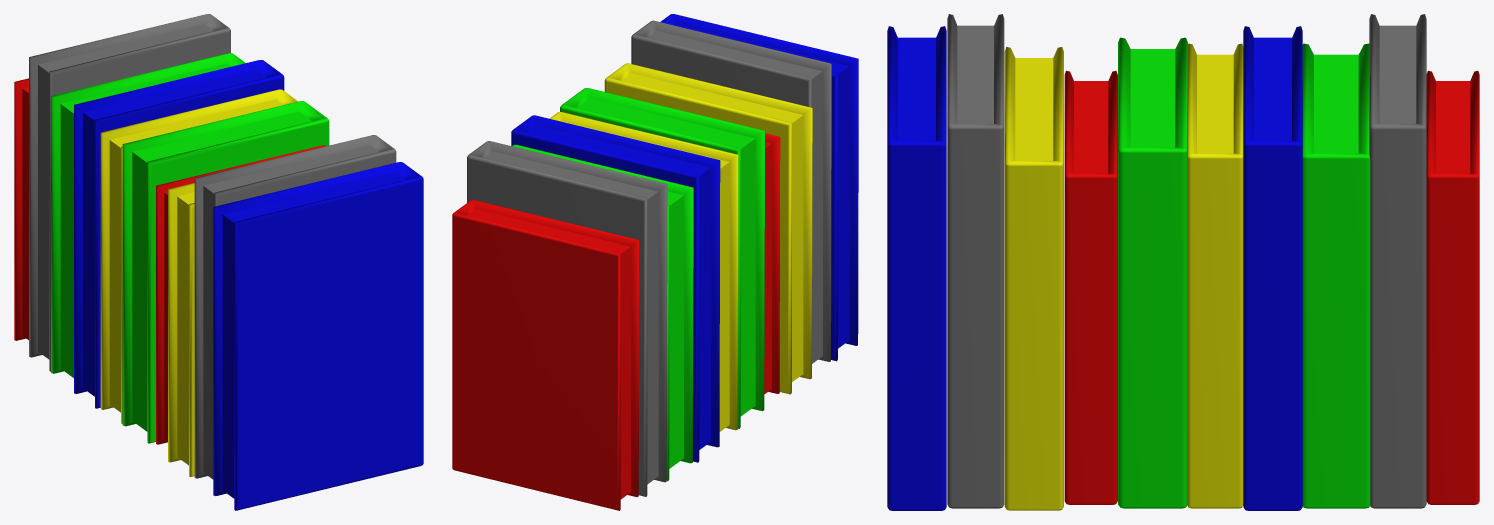
File: SM_bookstack_04.fbx
3 views of the same model, side by side, from view 1: azimuth 30°, elevation 25°; view 2: azimuth 150°, elevation 25°; view 3: azimuth 270°, elevation 25° (orthographic). The views are drawn at different scales.
Parts seen in each view (by area): view 1: SM_bookstack_04; view 2: SM_bookstack_04; view 3: SM_bookstack_04.
Part boxes in pixels (<box>): SM_bookstack_04: <box>14,14,423,510</box>; SM_bookstack_04: <box>452,14,858,510</box>; SM_bookstack_04: <box>887,14,1479,510</box>.
Bounding box in the file's own units: 43.48 × 66.01 × 92.38.
